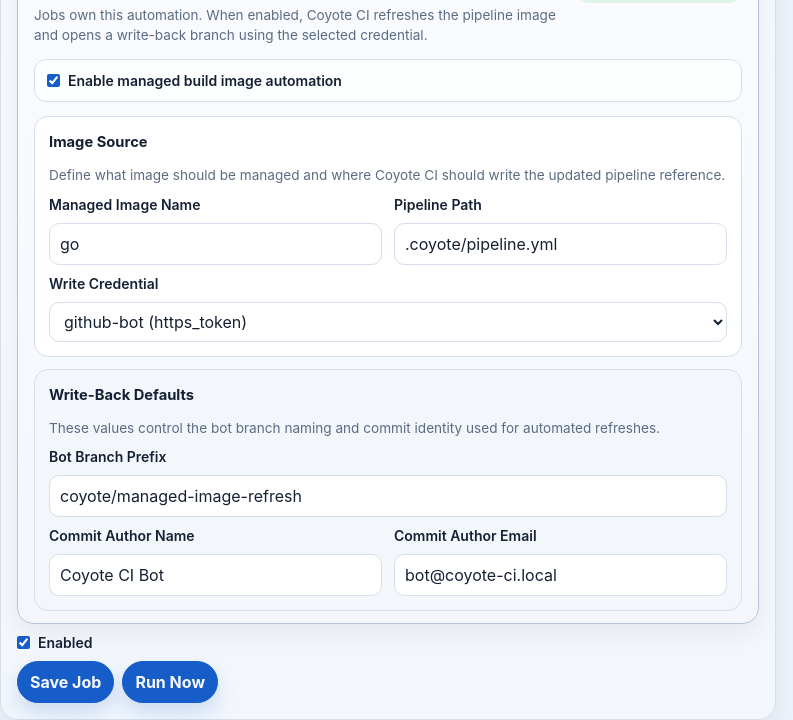
JobDetailPage › surfaces run-now error message
(page scrolled)
Click the button "Run Now": click(170, 682) [122,661,218,703]
(page scrolled)
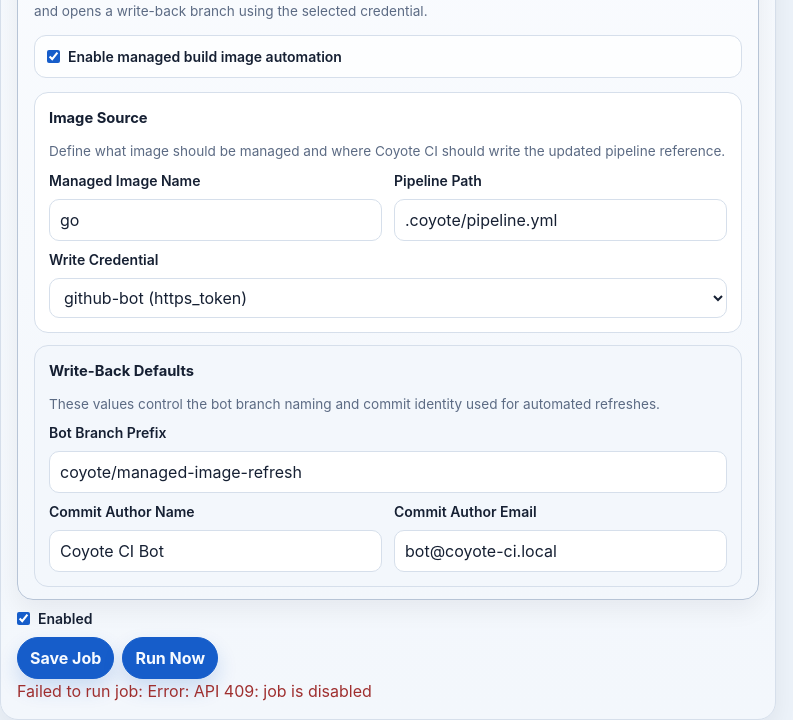
Result: the text "Failed to run job: Error: API 409: job is disabled" is shown at [17,681,372,701]
